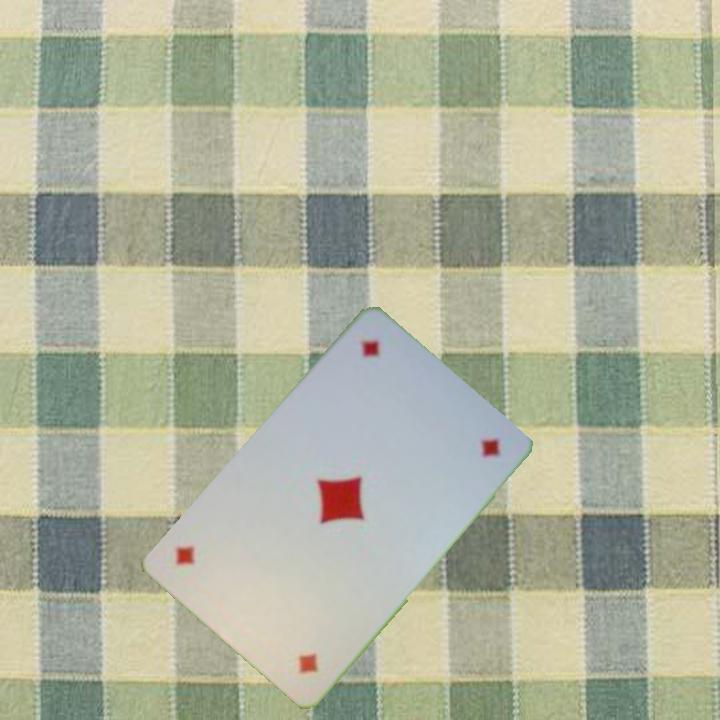d_a.png: (232, 562, 362, 690), (317, 323, 446, 451)
